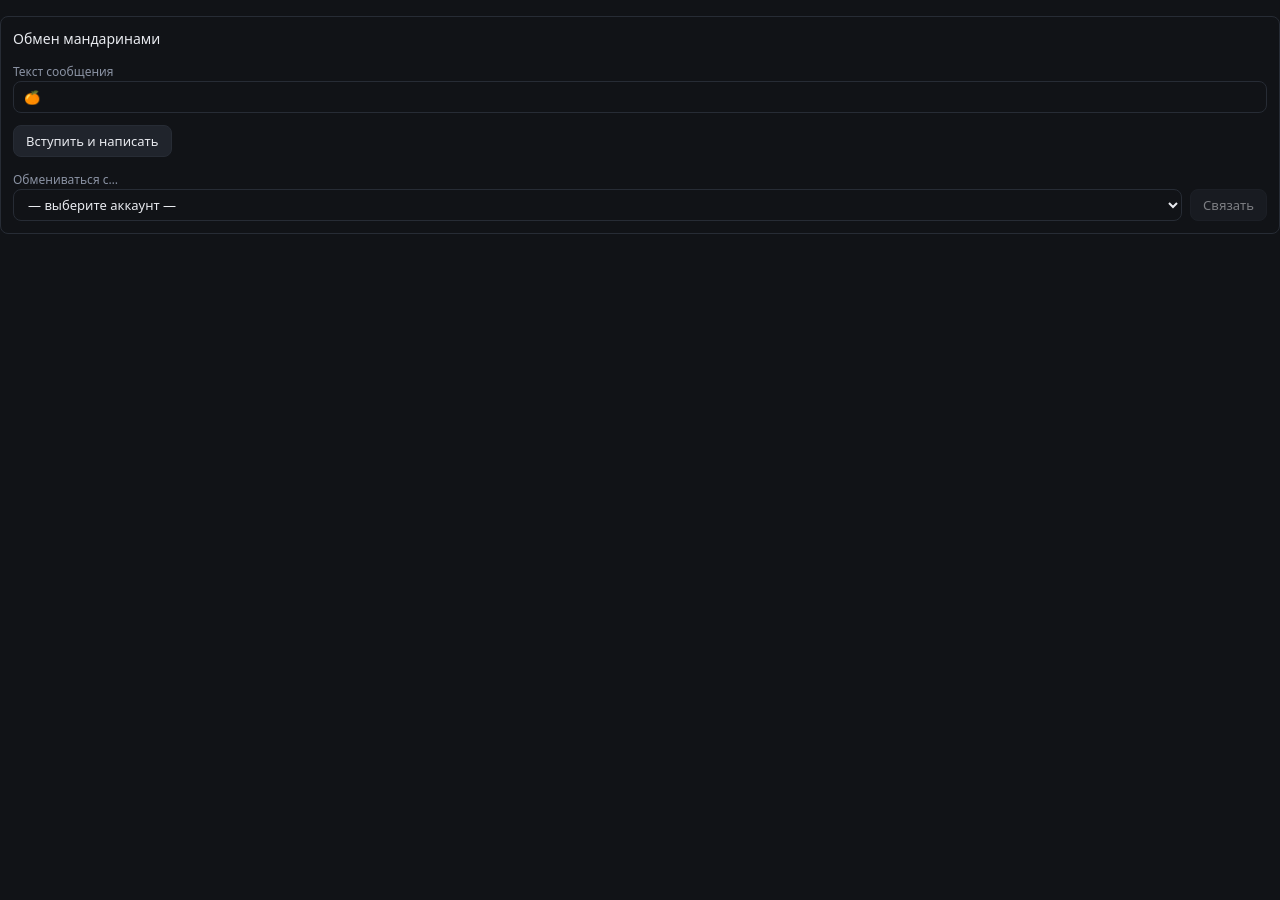
«Обмен мандаринами» › «Связать»: подтверждение с текстом, POST pair, «Связано: A ↔ B», настройки перечитываются
Select "twink" in the dropdown labelled "Обмениваться с…": coordinates (598, 205) [13,189,1182,221]
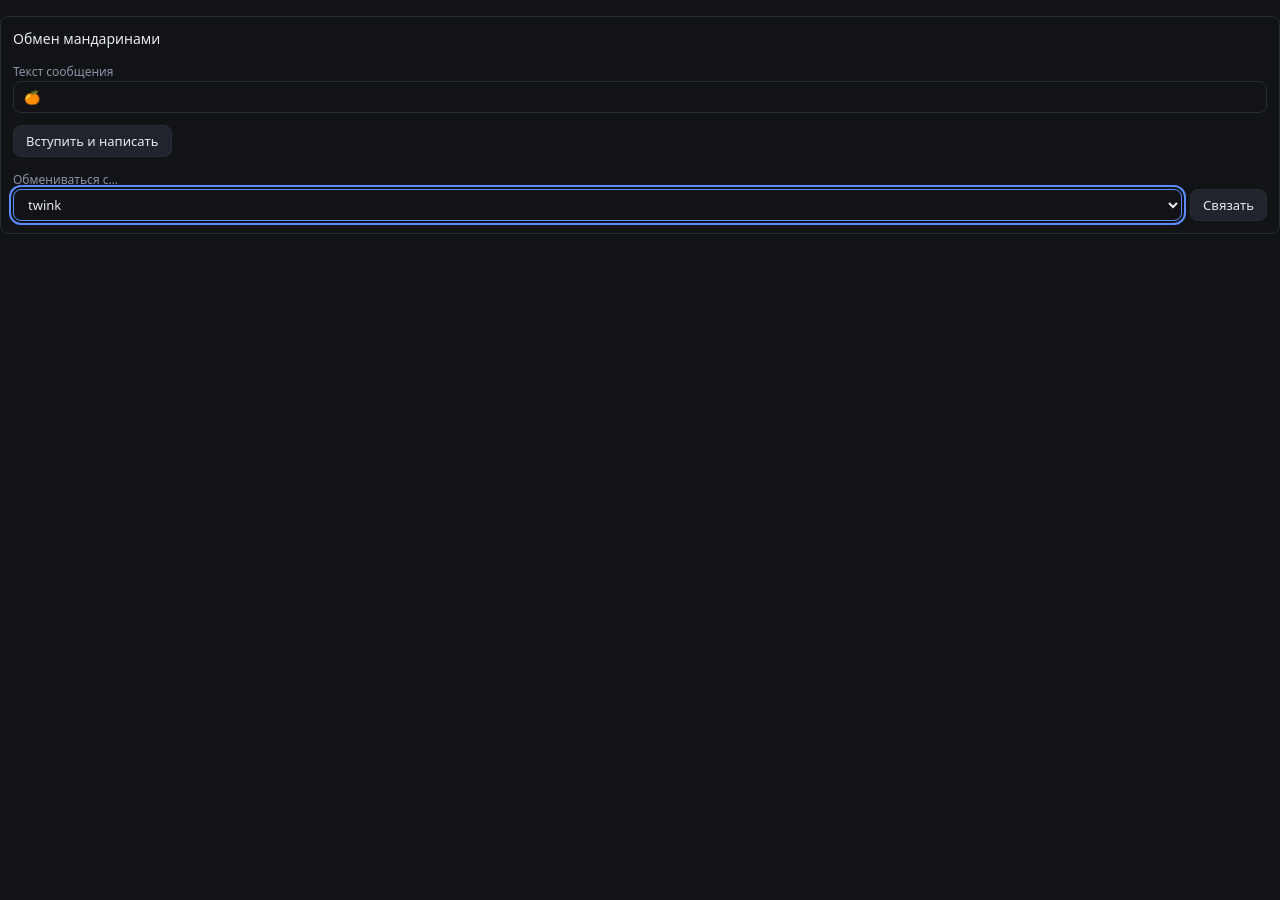
Click the button "Связать": coordinates (1229, 205) [1190,189,1267,221]
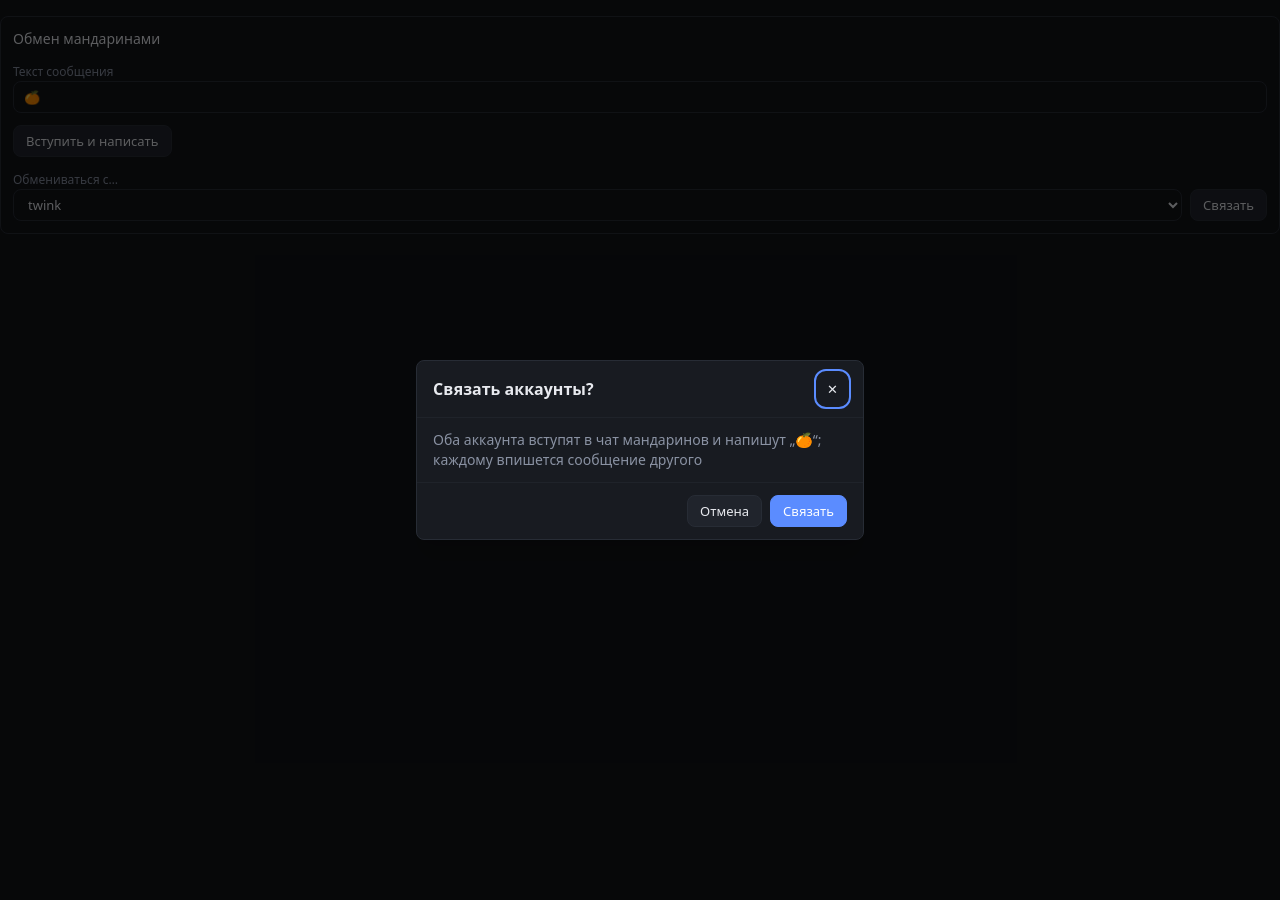
Click the button "Связать": coordinates (809, 511) [770,495,847,527]
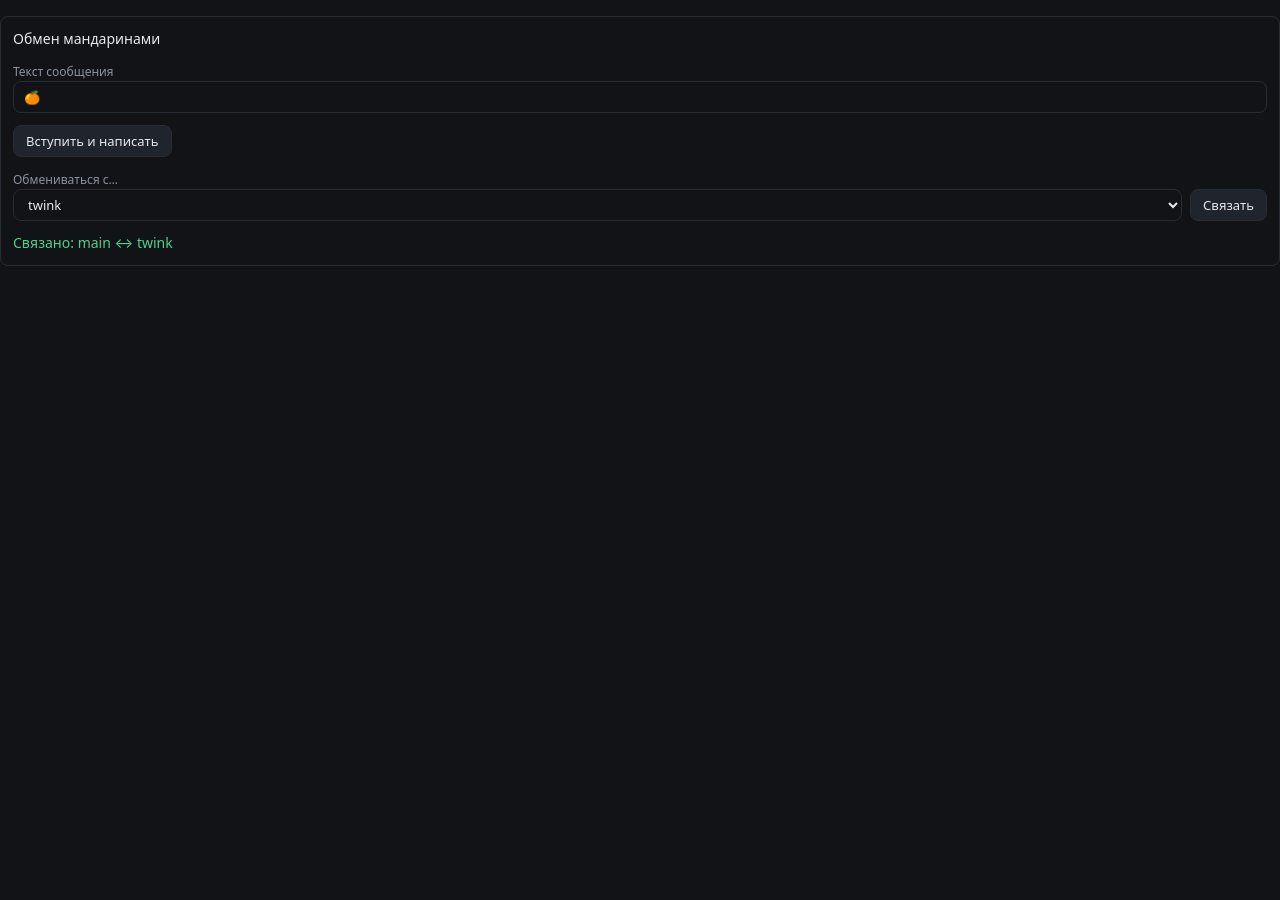
Result: the text "Связано: main ↔ twink" is shown at [13,233,173,252]
